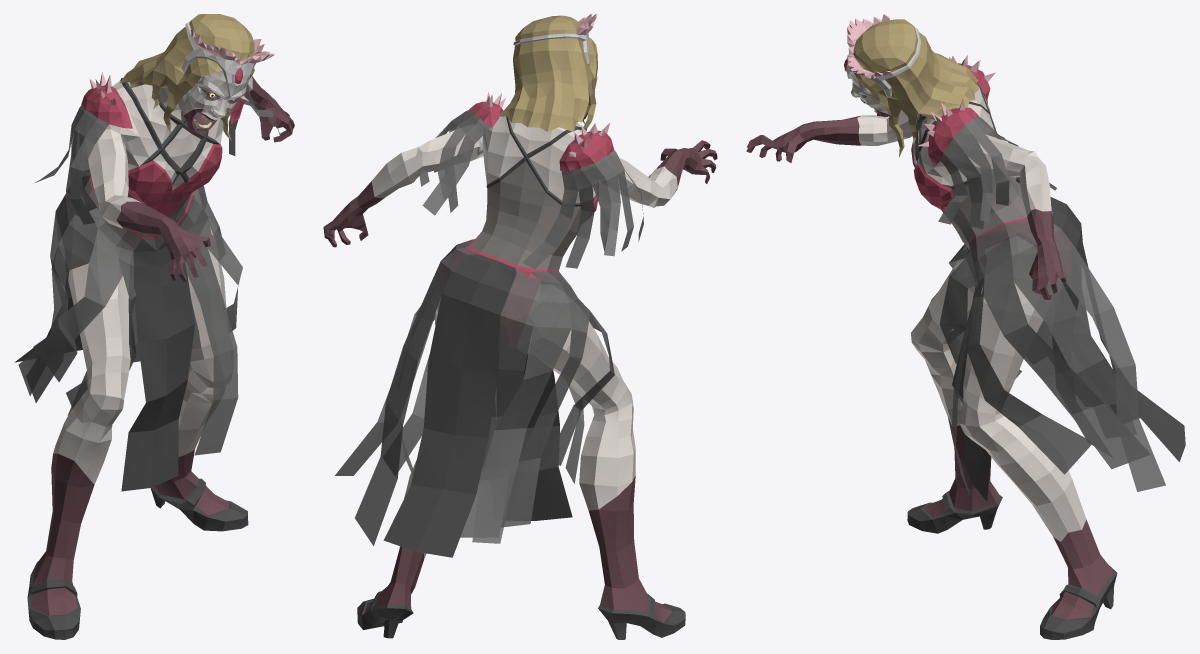
The model's file is queen_athena_athena_perample.glb.
3 views of the same model, side by side, from view 1: azimuth 30°, elevation 25°; view 2: azimuth 150°, elevation 25°; view 3: azimuth 270°, elevation 25° (orthographic). The views are drawn at different scales.
Parts seen in each view (by area): view 1: Athena.obj_DressTrans_0, Athena.obj_Skin_0, Athena.obj_Charcoal_0, Athena.obj_Blood_0, Athena.obj_Hair_0, Athena.obj_Red_0, Athena.obj_Silver_0, Athena.obj_Crystal_0; view 2: Athena.obj_DressTrans_0, Athena.obj_Charcoal_0, Athena.obj_Skin_0, Athena.obj_Blood_0, Athena.obj_Hair_0, Athena.obj_Dress_0, Athena.obj_Red_0, Athena.obj_Crystal_0; view 3: Athena.obj_DressTrans_0, Athena.obj_Skin_0, Athena.obj_Blood_0, Athena.obj_Charcoal_0, Athena.obj_Hair_0, Athena.obj_Red_0, Athena.obj_Dress_0, Athena.obj_Crystal_0.
Boxes of the visible parts, x1,y1,x2,y2 form: Athena.obj_DressTrans_0: [18, 84, 281, 455]; Athena.obj_Skin_0: [53, 70, 252, 484]; Athena.obj_Charcoal_0: [14, 78, 248, 639]; Athena.obj_Blood_0: [31, 76, 294, 615]; Athena.obj_Hair_0: [119, 14, 254, 140]; Athena.obj_Red_0: [81, 68, 246, 239]; Athena.obj_Silver_0: [182, 20, 255, 97]; Athena.obj_Crystal_0: [89, 29, 274, 105]; Athena.obj_DressTrans_0: [335, 109, 643, 545]; Athena.obj_Charcoal_0: [357, 116, 685, 639]; Athena.obj_Skin_0: [371, 76, 677, 558]; Athena.obj_Blood_0: [323, 112, 717, 622]; Athena.obj_Hair_0: [498, 15, 597, 131]; Athena.obj_Dress_0: [469, 161, 581, 270]; Athena.obj_Red_0: [441, 101, 613, 294]; Athena.obj_Crystal_0: [485, 14, 610, 157]; Athena.obj_DressTrans_0: [938, 93, 1165, 494]; Athena.obj_Skin_0: [851, 73, 1086, 541]; Athena.obj_Blood_0: [746, 102, 1113, 619]; Athena.obj_Charcoal_0: [907, 83, 1185, 639]; Athena.obj_Hair_0: [853, 19, 979, 157]; Athena.obj_Red_0: [844, 57, 1027, 245]; Athena.obj_Dress_0: [946, 126, 1026, 249]; Athena.obj_Crystal_0: [847, 14, 995, 146].
Size of the model in its own units: 0.8512 by 1.54 by 1.09.
